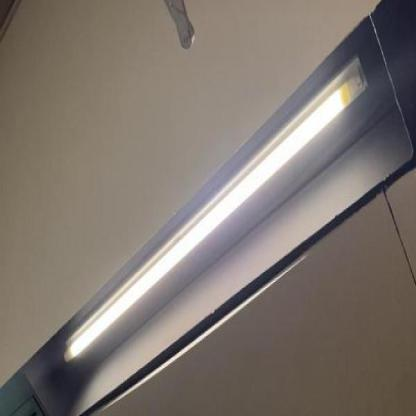light_on: (56, 52, 372, 372)
